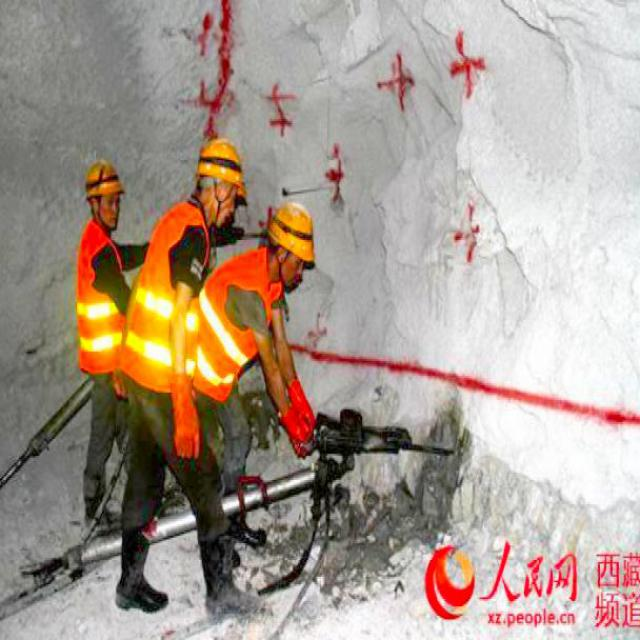gloves: (153, 361, 203, 456), (273, 376, 321, 456)
helmet: (190, 125, 250, 231), (258, 202, 316, 284), (70, 147, 126, 227)
vest: (124, 199, 202, 387), (186, 251, 268, 384), (68, 225, 126, 361)
